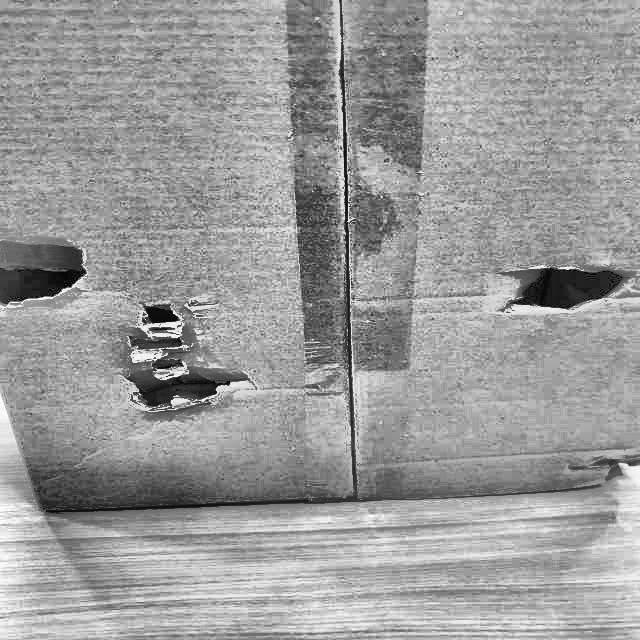box: (0, 0, 639, 519)
hole: (109, 302, 256, 416), (0, 232, 103, 314), (483, 260, 640, 308), (564, 456, 640, 496)
